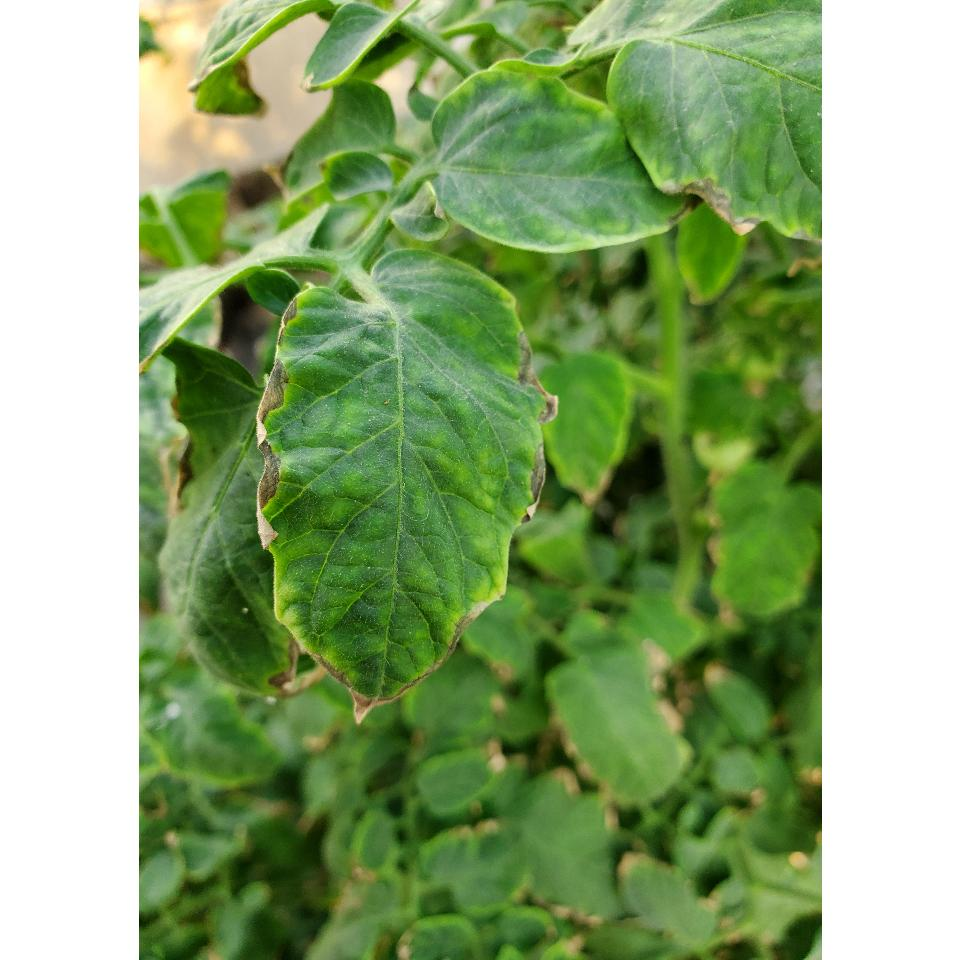tomato_bacterial_blight: (246, 238, 566, 730)
